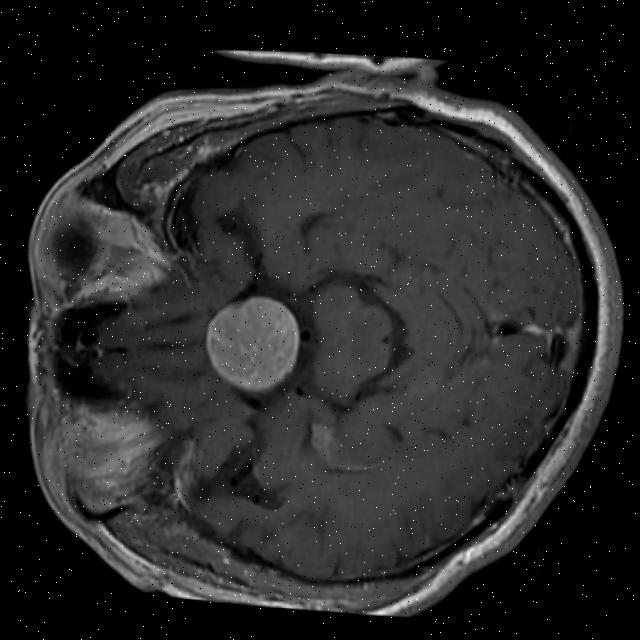Pituitary: (201, 291, 304, 395)
